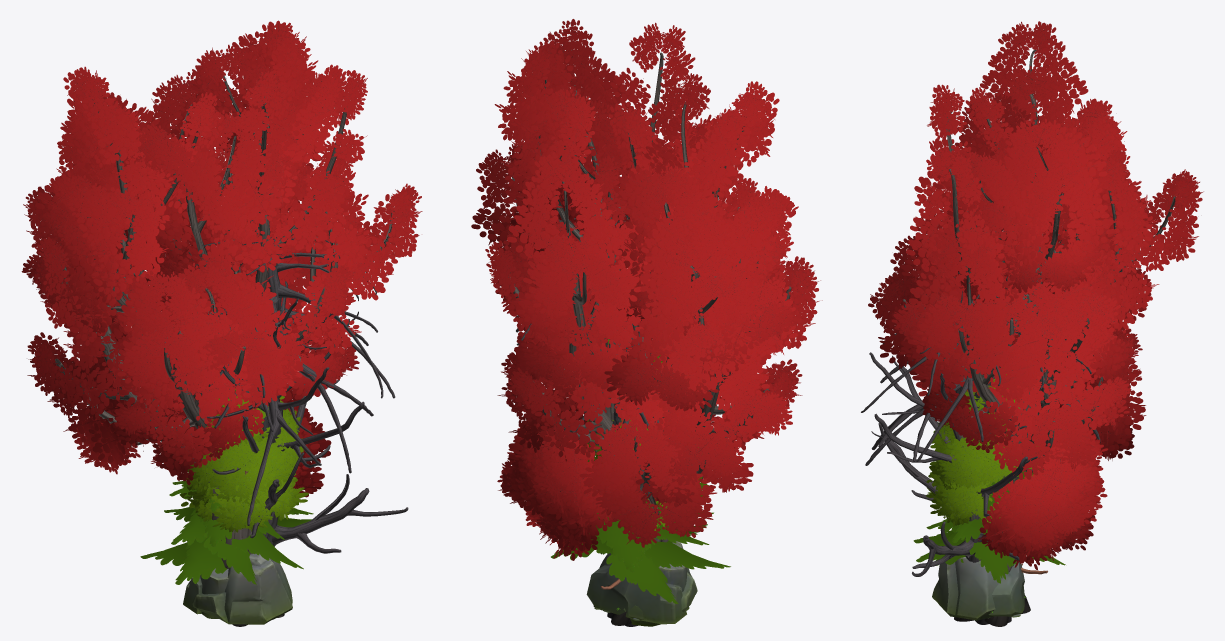
File: nature.glb
3 views of the same model, side by side, from view 1: azimuth 30°, elevation 25°; view 2: azimuth 150°, elevation 25°; view 3: azimuth 270°, elevation 25° (orthographic). The views are drawn at different scales.
Visible parts, largest first — view 1: TwistedTree_2, TwistedTree_4, Pine_2, DeadTree_2, DeadTree_4, CommonTree_1, Rock_Medium_1, CommonTree_3, Rock_Medium_2, CommonTree_5; view 2: TwistedTree_2, TwistedTree_4, Pine_2, Rock_Medium_2, Rock_Medium_1; view 3: TwistedTree_4, TwistedTree_2, DeadTree_2, Rock_Medium_1, DeadTree_4, Pine_2, CommonTree_1, CommonTree_3, Rock_Medium_2, CommonTree_5.
Boxes of the visible parts, x1,y1,x2,y2 form: TwistedTree_2: [21, 66, 367, 626]; TwistedTree_4: [74, 20, 422, 626]; Pine_2: [140, 416, 313, 584]; DeadTree_2: [181, 281, 408, 553]; DeadTree_4: [165, 220, 395, 525]; CommonTree_1: [180, 409, 308, 532]; Rock_Medium_1: [192, 553, 292, 624]; CommonTree_3: [192, 389, 303, 506]; Rock_Medium_2: [183, 568, 228, 618]; CommonTree_5: [188, 437, 293, 529]; TwistedTree_2: [485, 19, 822, 625]; TwistedTree_4: [471, 40, 734, 625]; Pine_2: [551, 434, 730, 603]; Rock_Medium_2: [586, 564, 689, 624]; Rock_Medium_1: [599, 541, 697, 626]; TwistedTree_4: [868, 94, 1203, 625]; TwistedTree_2: [887, 21, 1153, 626]; DeadTree_2: [869, 291, 1037, 576]; Rock_Medium_1: [932, 557, 1024, 620]; DeadTree_4: [861, 260, 1100, 624]; Pine_2: [913, 469, 1065, 583]; CommonTree_1: [926, 424, 1018, 526]; CommonTree_3: [928, 374, 1019, 532]; Rock_Medium_2: [988, 562, 1024, 616]; CommonTree_5: [942, 446, 1036, 518].
Size of the model in its own units: 12.67 by 19.08 by 11.29.
12 materials, 12 textured.
